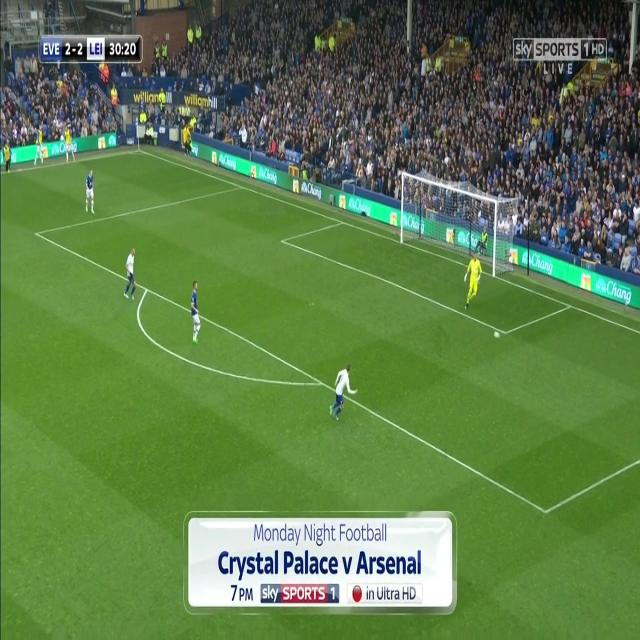Ball: (492, 329, 501, 342)
Goalkeeper: (463, 250, 484, 314)
Player: (326, 362, 358, 428), (122, 244, 139, 302), (190, 277, 202, 349), (85, 169, 96, 214)
Referee: (63, 123, 77, 165), (32, 122, 45, 166)
